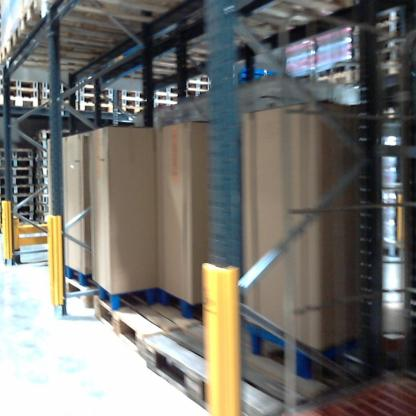pallet: (143, 305, 401, 413), (88, 284, 237, 377), (19, 2, 143, 48), (5, 27, 141, 56), (1, 44, 113, 76), (50, 265, 98, 316), (368, 26, 410, 56), (365, 10, 410, 37), (362, 4, 405, 30), (363, 47, 411, 69), (30, 128, 76, 145), (308, 73, 348, 89), (39, 76, 77, 91), (0, 88, 42, 101), (75, 103, 116, 116), (41, 99, 77, 113), (0, 97, 38, 110), (6, 214, 36, 230), (32, 137, 66, 151), (182, 86, 213, 101), (0, 76, 38, 88), (0, 145, 35, 158), (116, 104, 148, 118), (184, 69, 213, 84), (183, 79, 214, 93), (1, 202, 37, 214), (118, 87, 151, 100), (1, 158, 33, 170), (1, 166, 33, 178), (78, 85, 115, 95), (155, 85, 183, 98), (115, 96, 151, 106), (1, 194, 36, 204), (77, 95, 112, 105), (31, 207, 51, 224), (150, 93, 180, 104), (1, 176, 36, 185), (40, 91, 78, 99), (2, 185, 34, 194), (32, 194, 55, 204), (29, 148, 50, 158), (29, 158, 48, 169), (152, 100, 178, 108), (33, 186, 55, 194), (32, 204, 49, 213), (30, 168, 49, 176), (33, 176, 48, 186)
